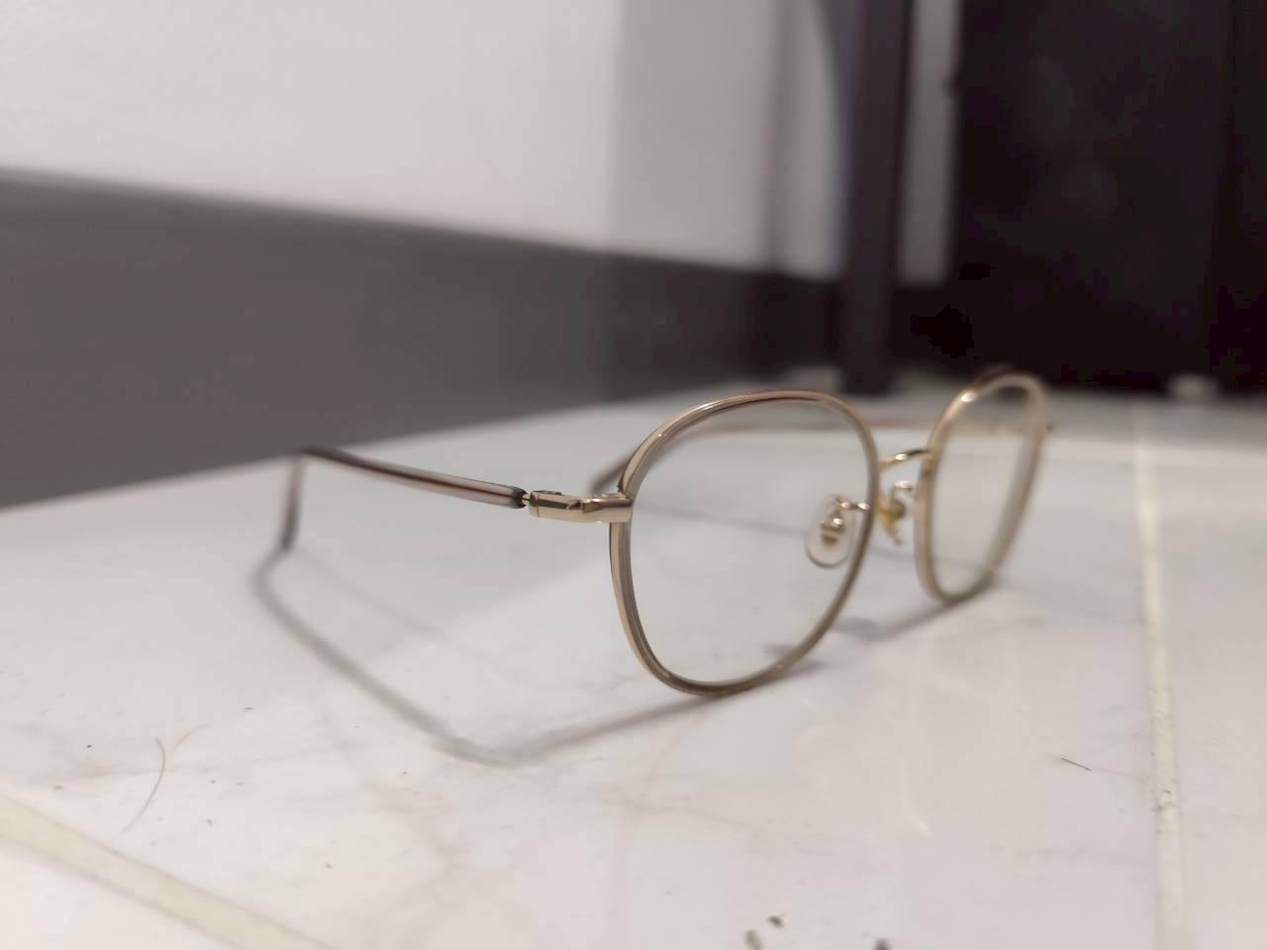glasses: (256, 369, 1073, 708)
